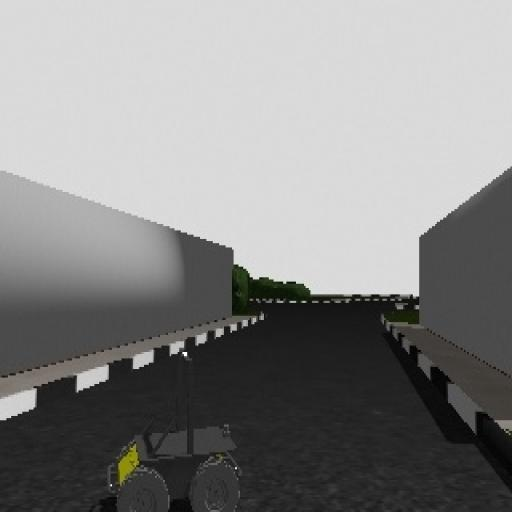huskya200: (100, 339, 252, 512)
